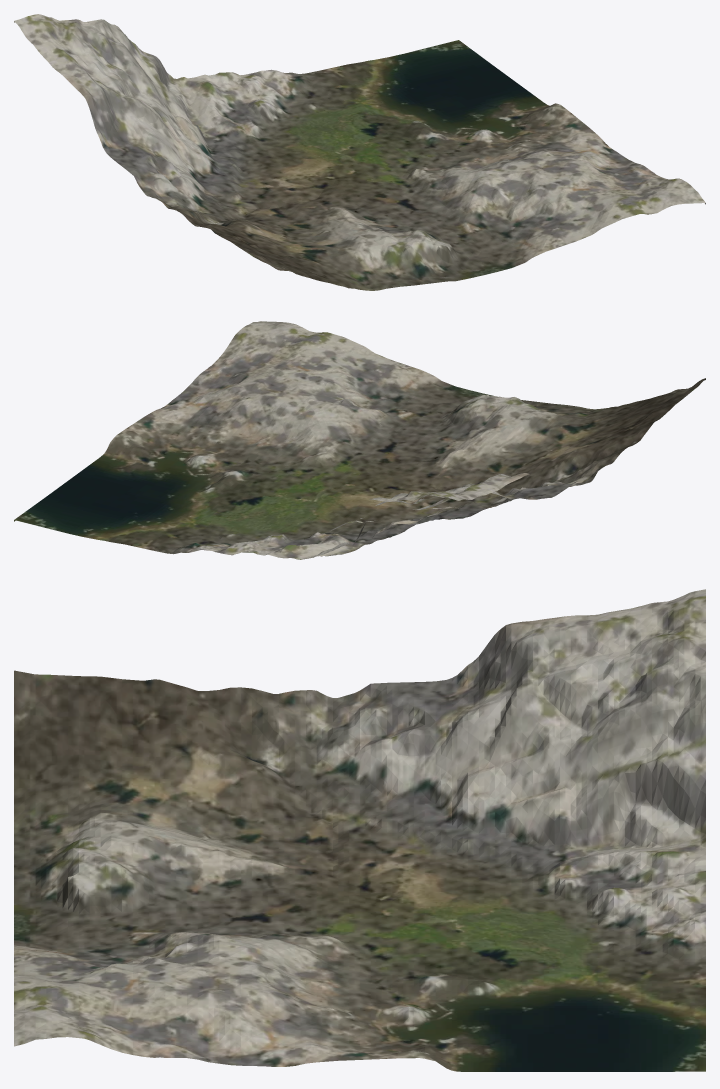
The picture shows the model from 3 angles, top to bottom: view 1: azimuth 30°, elevation 25°; view 2: azimuth 150°, elevation 25°; view 3: azimuth 270°, elevation 25°; orthographic projection. The views are drawn at different scales.
Bounding box in the file's own units: 250 × 70.43 × 241.
1 material, 1 textured.
